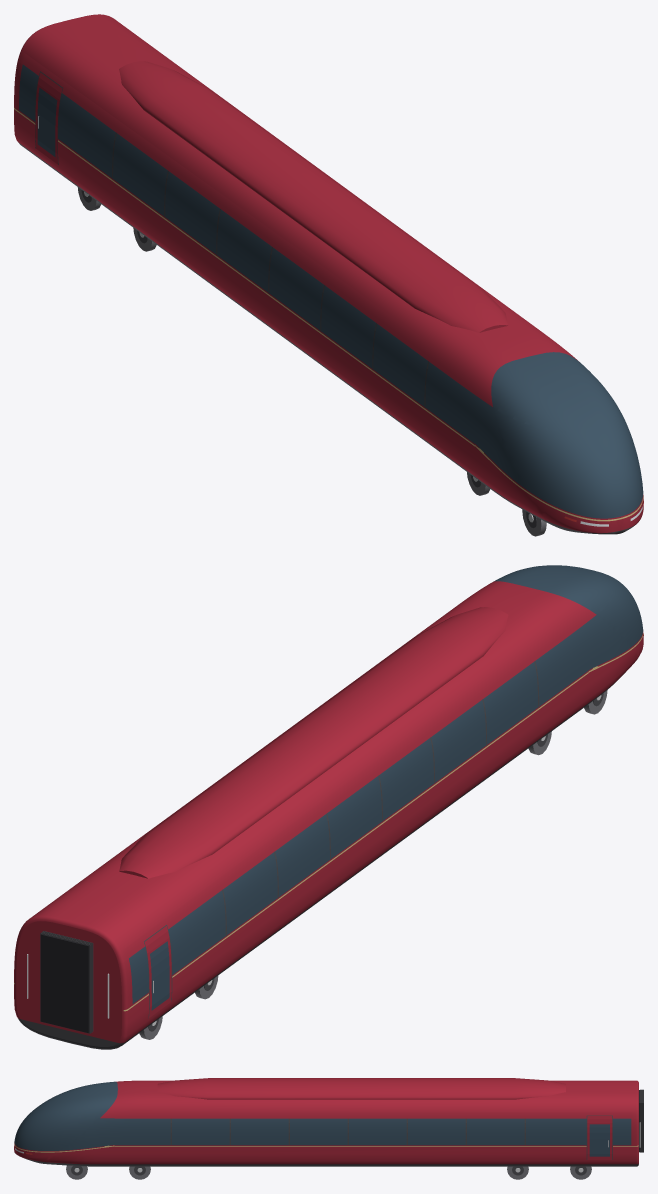
Rendered from 377_close.fbx.
The picture shows the model from 3 angles, top to bottom: view 1: azimuth 30°, elevation 25°; view 2: azimuth 150°, elevation 25°; view 3: azimuth 270°, elevation 25°; orthographic projection. The views are drawn at different scales.
Parts seen in each view (by area): view 1: 377_close; view 2: 377_close; view 3: 377_close.
Part boxes in pixels (x1,y1,x2,y2): 377_close: (14, 14, 643, 536); 377_close: (14, 565, 643, 1049); 377_close: (14, 1078, 643, 1179).
Size of the model in its own units: 3 by 3.86 by 25.
